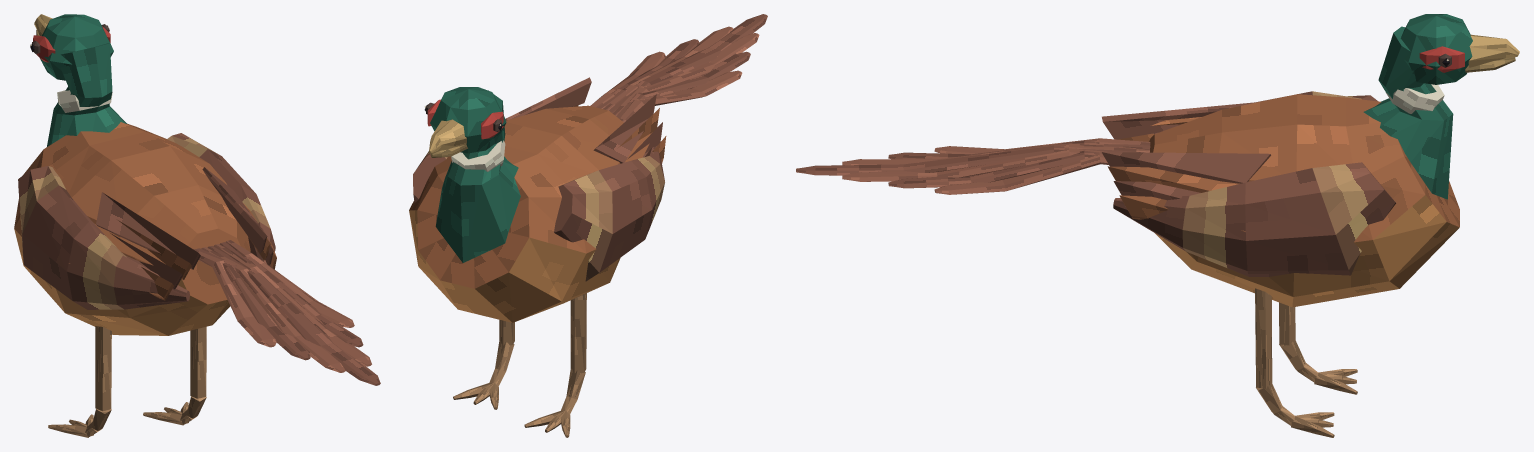
File: mon_pheasant.glb
The picture shows the model from 3 angles, left to right: view 1: azimuth 30°, elevation 25°; view 2: azimuth 150°, elevation 25°; view 3: azimuth 270°, elevation 25°; orthographic projection. The views are drawn at different scales.
Parts seen in each view (by area): view 1: closed_body; view 2: closed_body; view 3: closed_body.
Part boxes in pixels (box(x1,y1,x2,y2)): closed_body: box(14, 14, 380, 437); closed_body: box(409, 14, 767, 437); closed_body: box(796, 14, 1519, 437).
Bounding box in the file's own units: 0.1765 × 0.3113 × 0.5235.
1 material, 1 textured.
